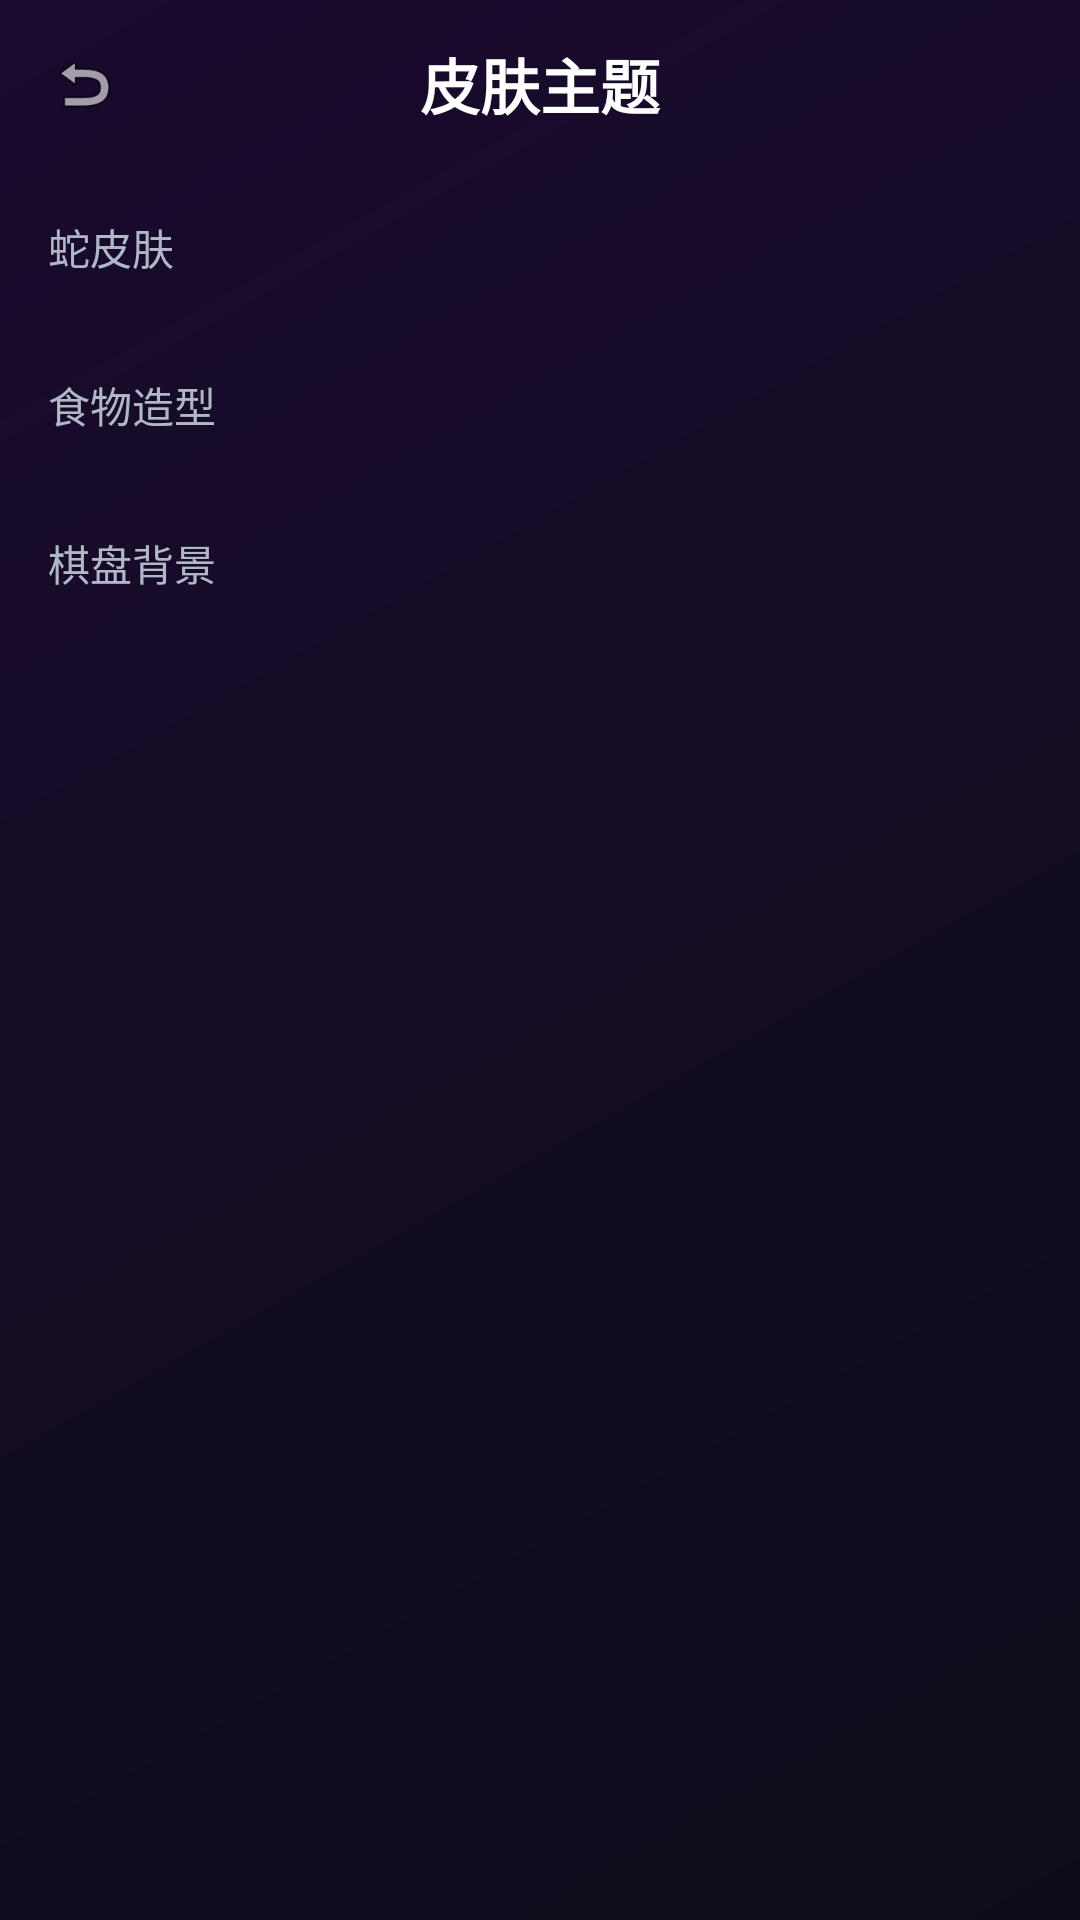

Icon bounding boxes for this 1080 × 1920 phone screenshot, format (x1, y1, x2, y2):
返回: (61, 63, 109, 106)
